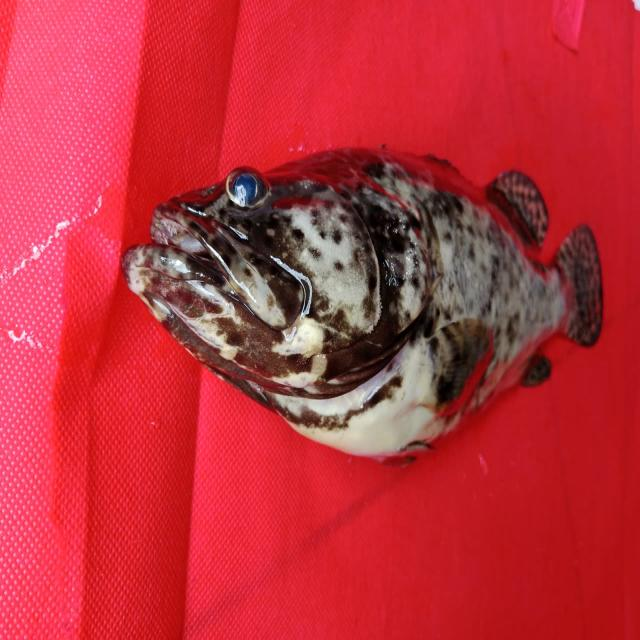ikan: (114, 123, 618, 485)
